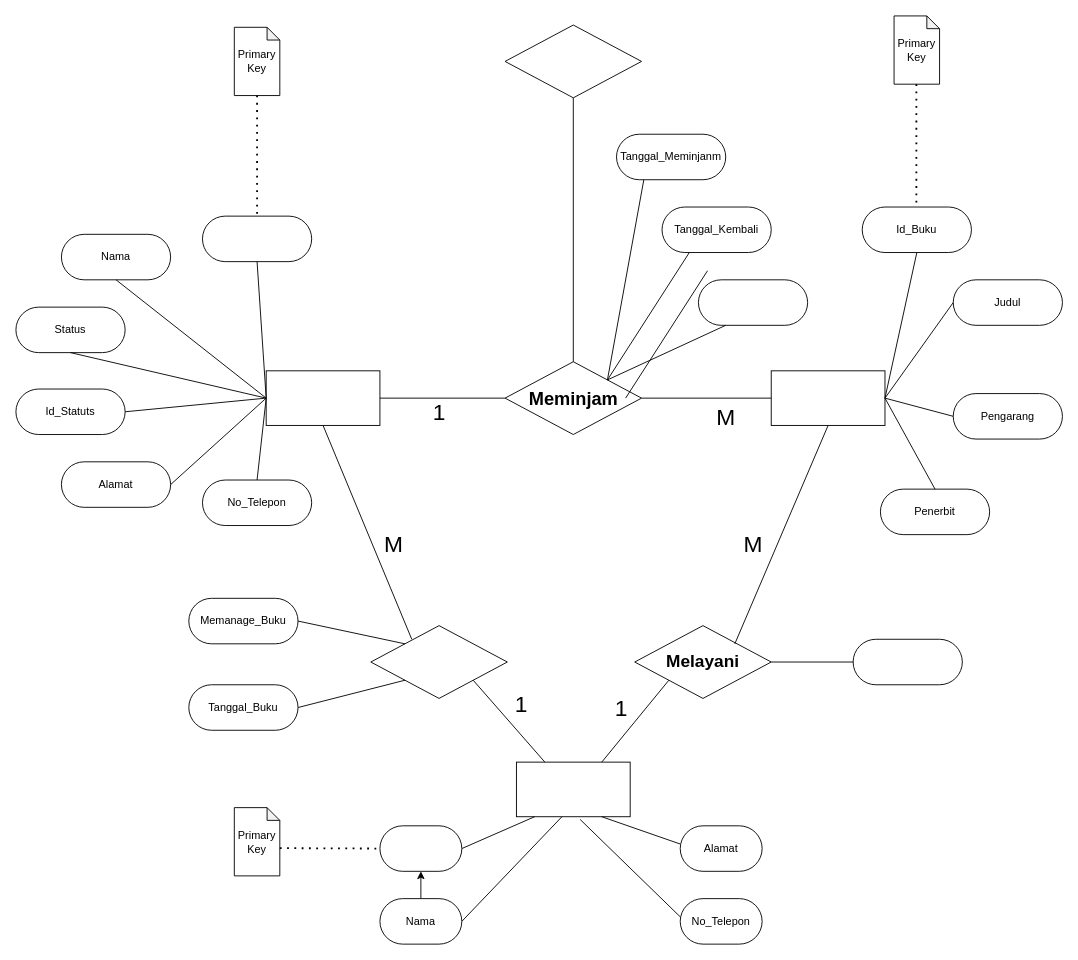
This 1078x960 diagram has some shape labels left out. The box of each missing label's shape, as (x1, y1, x2, y2) in pixels:
Anggota: (265, 370, 380, 425)
Id_Anggota: (202, 215, 312, 262)
id_pegawai: (379, 825, 462, 871)
Jumlah_Buku: (698, 279, 808, 325)
Koleksi Buku: (770, 370, 885, 425)
Manajemen: (370, 625, 507, 698)
Pegawai: (516, 761, 630, 817)
Perpustakaan: (504, 24, 642, 98)
Tangal_Registrasi: (852, 638, 962, 685)
